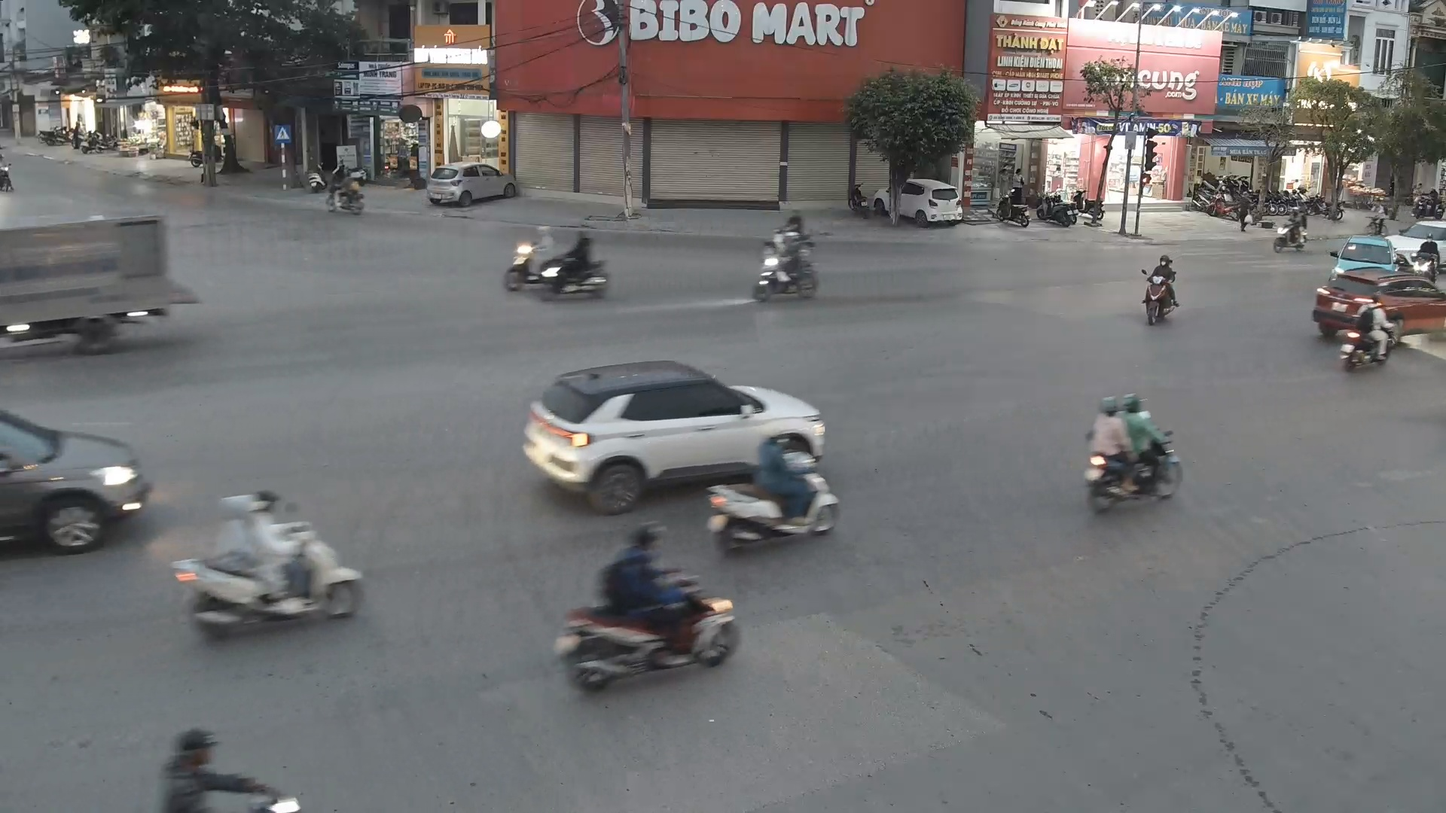car: (521, 358, 832, 513), (0, 390, 152, 557), (1310, 233, 1445, 348)
exception: (156, 723, 306, 812)
motorbike: (555, 521, 740, 694), (176, 487, 364, 640), (705, 426, 840, 553), (1081, 392, 1184, 515), (503, 221, 613, 299), (749, 220, 822, 305), (1337, 291, 1397, 374), (1139, 252, 1182, 326)
truck: (0, 192, 200, 368)
